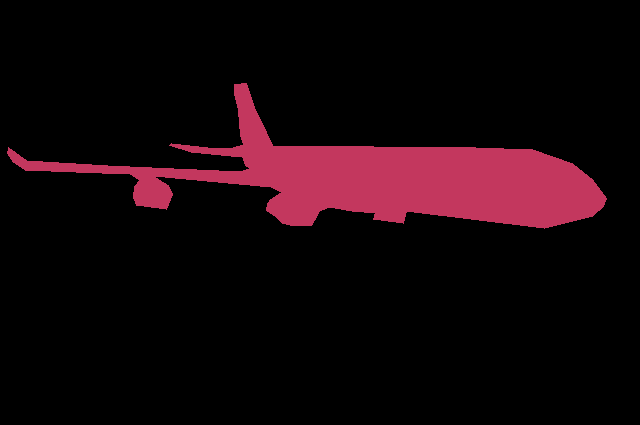Airplane: (7, 83, 606, 228)
